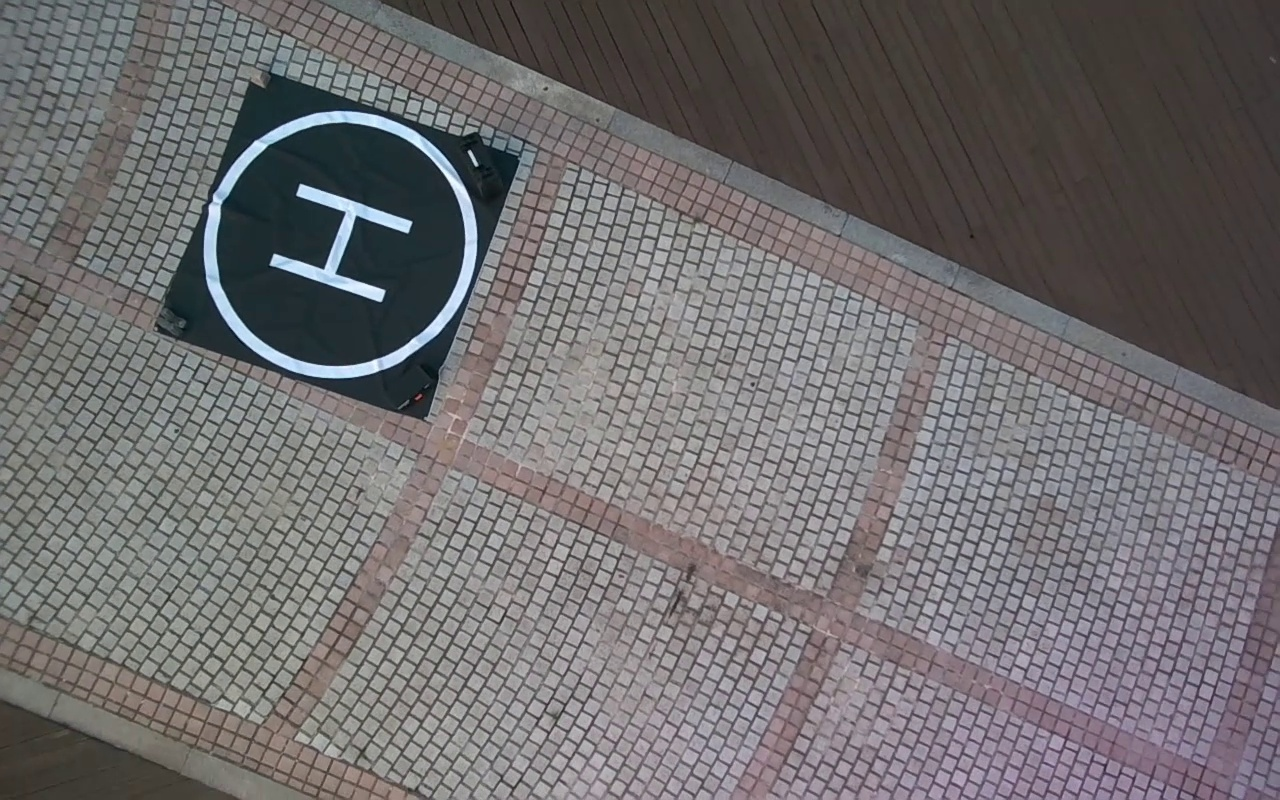H: (268, 183, 413, 303)
heliport: (205, 107, 481, 378)
